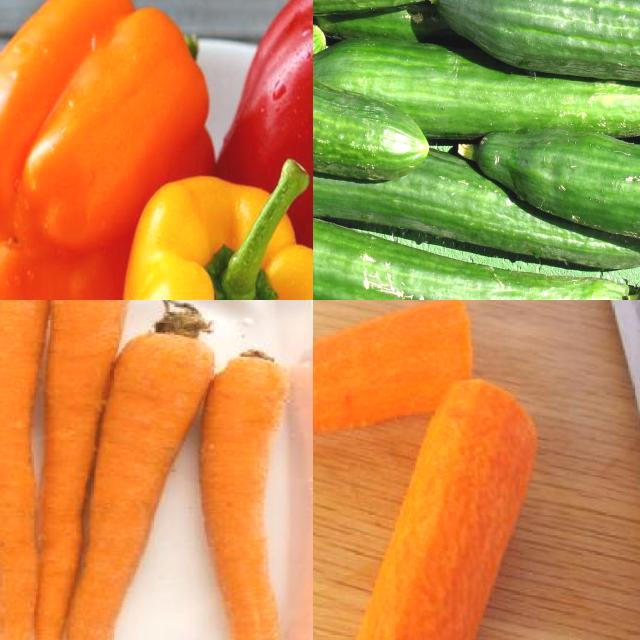bell_pepper: (1, 1, 225, 301), (126, 162, 314, 301), (226, 1, 314, 269)
carrot: (338, 386, 543, 640), (67, 323, 222, 640), (26, 301, 141, 640), (201, 323, 287, 640), (314, 301, 475, 454), (1, 301, 38, 640)
cucumber: (314, 217, 640, 301), (469, 126, 640, 258), (434, 1, 640, 103), (314, 62, 430, 180)
